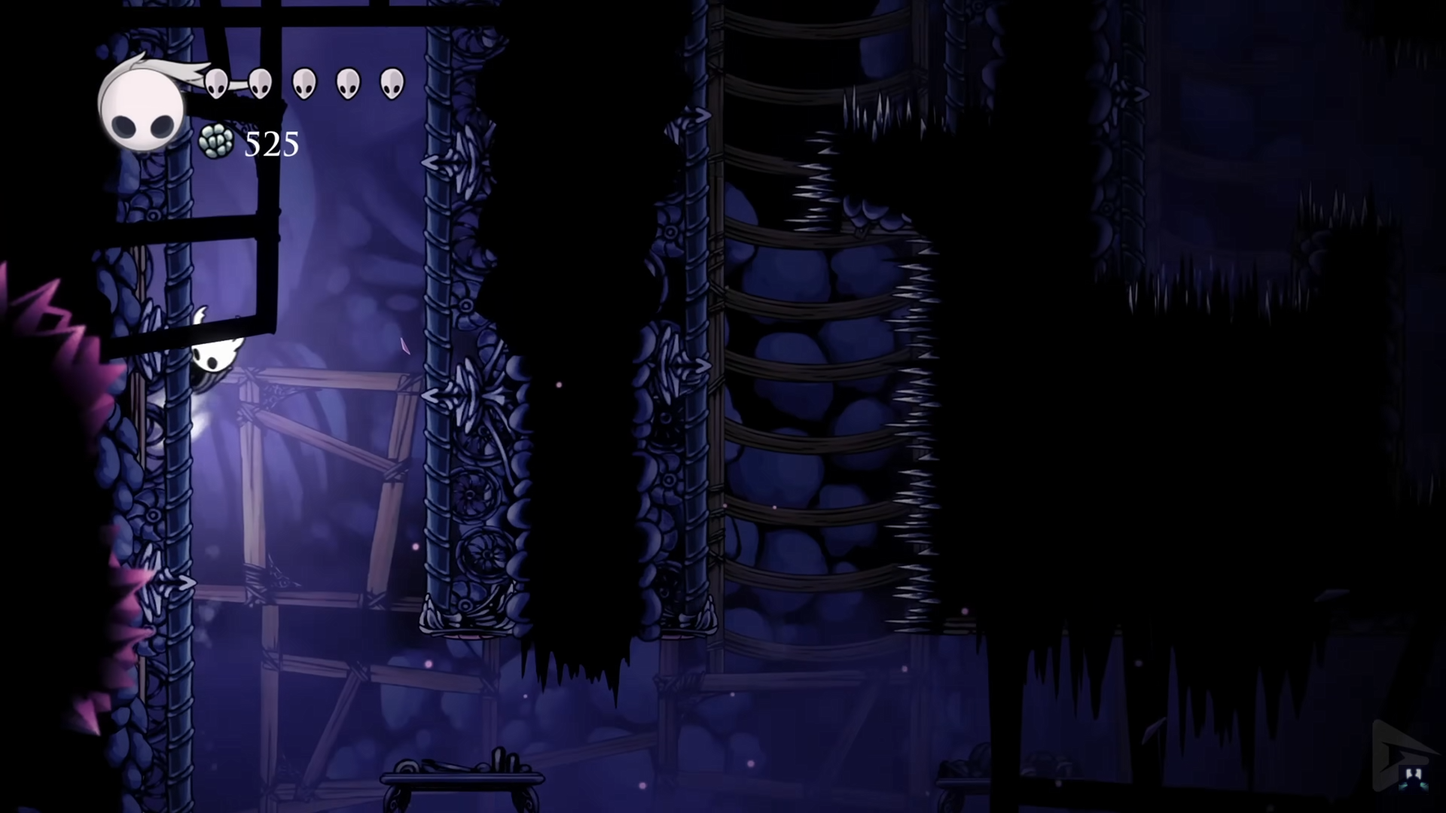HK: (186, 304, 246, 400)
